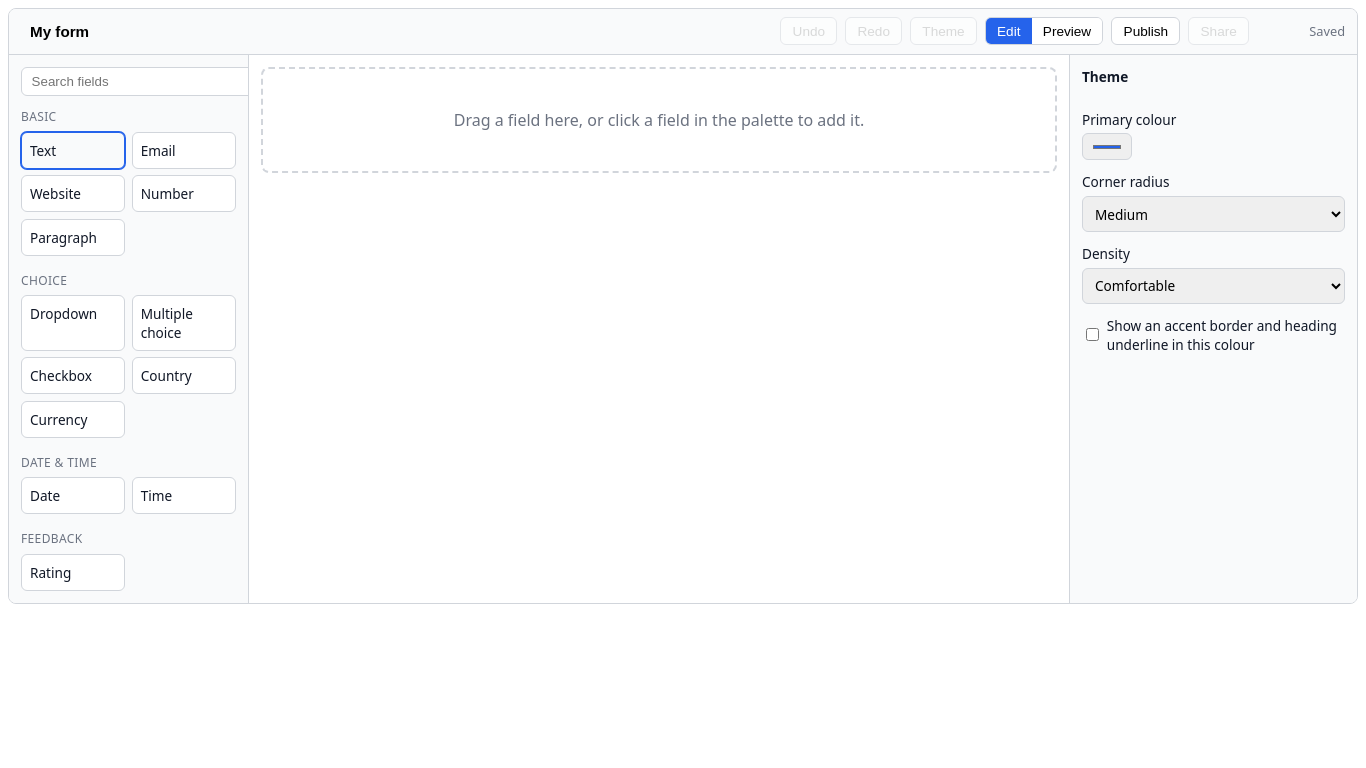
Test case: Builder › Unpublish hands the last publish result back to the host, then clears the live link and disables Share
What coordinates should you click on to do the following:
click the button "Publish"
I would click on:
 (1146, 31)
Its box is [1111, 17, 1180, 45].
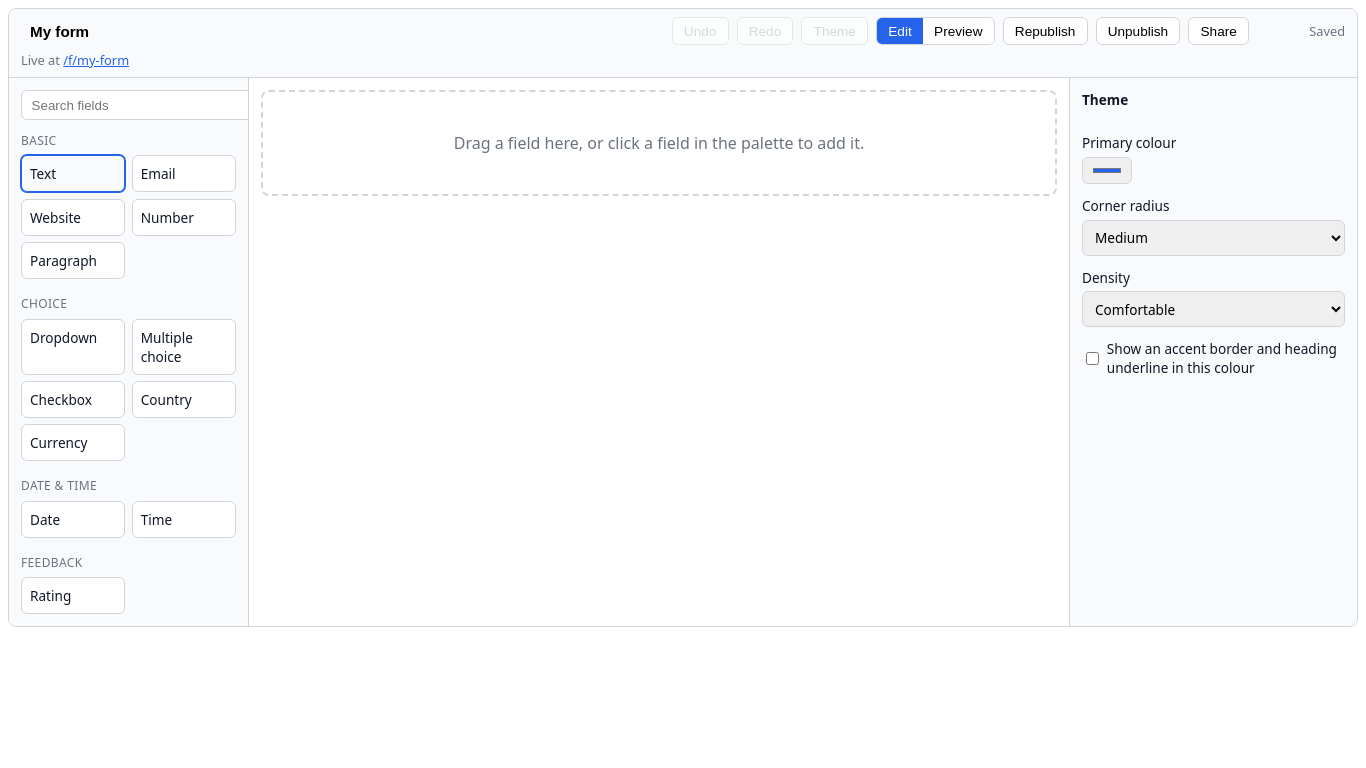
expect the link "/f/my-form" is shown: met, box [63, 51, 129, 69]
What coordinates should you click on to do the following:
click the button "Unpublish"
I would click on:
 (1138, 31)
Its box is [1096, 17, 1180, 45].
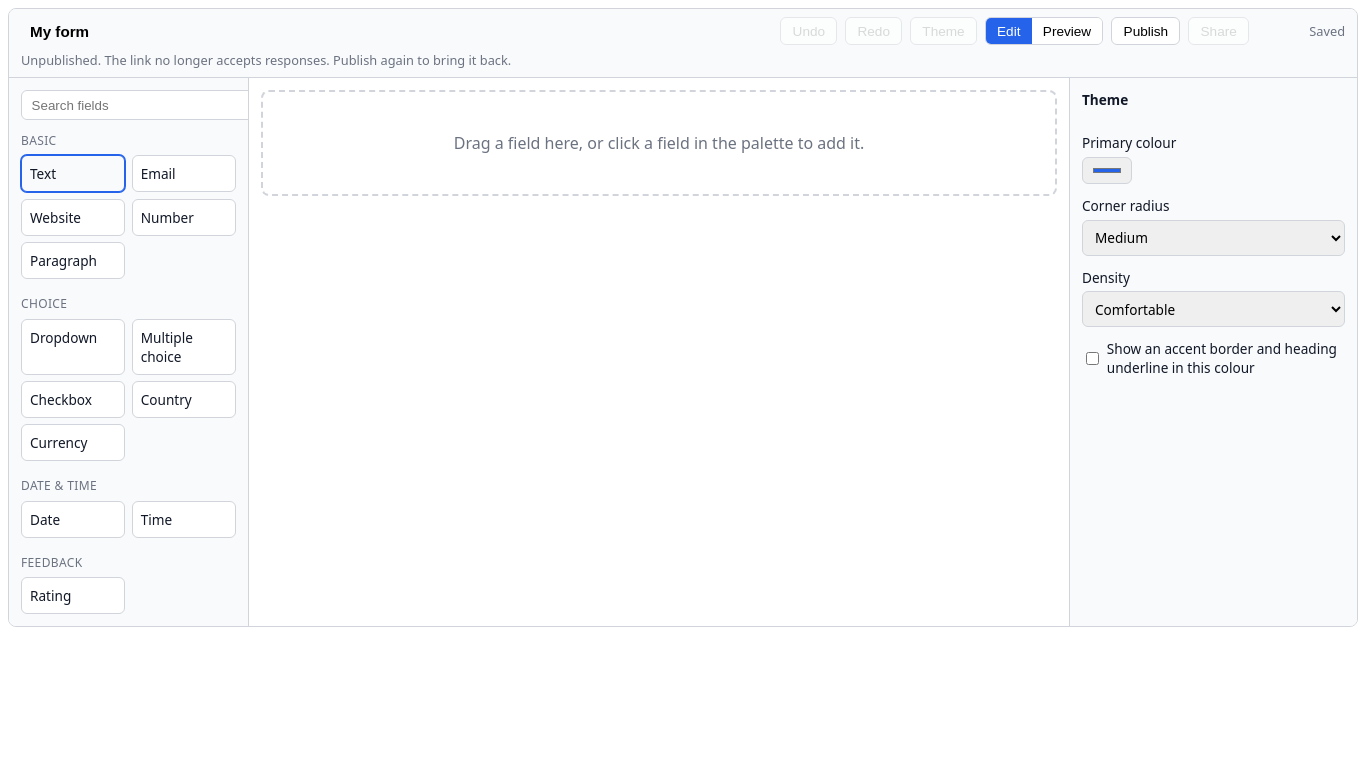
expect the text "no longer accepts responses" is shown: met, box [21, 51, 511, 69]
expect the link "/f/my-form" is gone: met
expect the button "Share" is disabled: met, box [1188, 17, 1249, 45]
